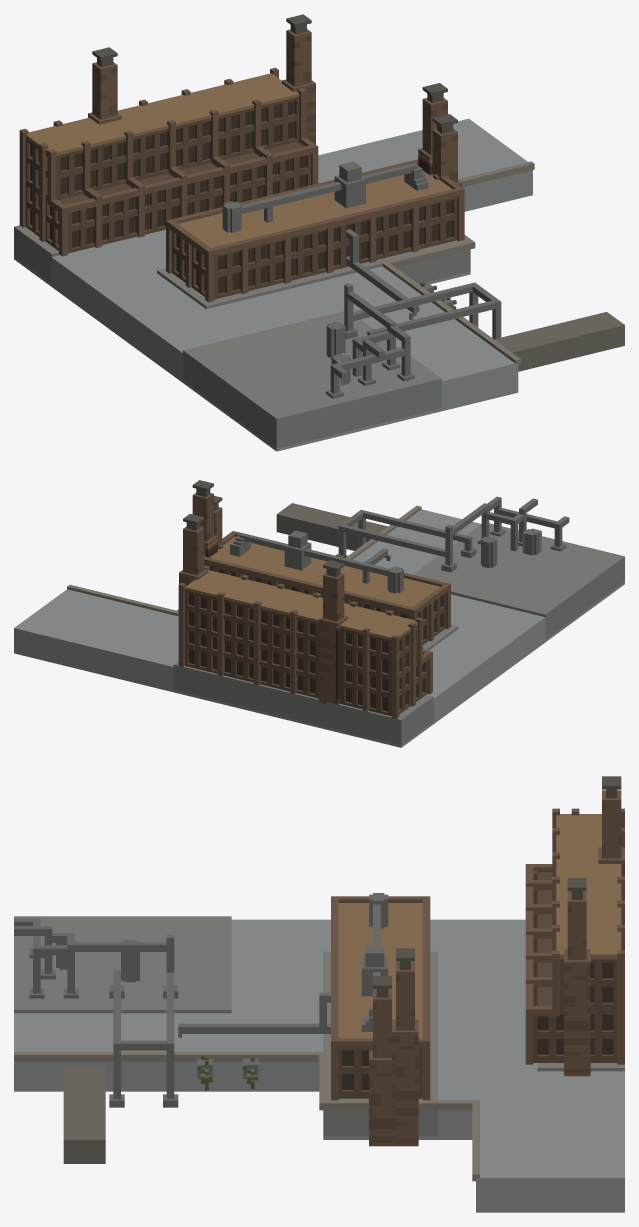
The model's file is Factory.fbx.
3 views of the same model, one above another, from view 1: azimuth 30°, elevation 25°; view 2: azimuth 150°, elevation 25°; view 3: azimuth 270°, elevation 25° (orthographic). The views are drawn at different scales.
Visible parts, largest first — view 1: Factory; view 2: Factory; view 3: Factory.
Part boxes in pixels (x1,y1,x2,y2): Factory: [14, 14, 624, 451]; Factory: [14, 480, 624, 747]; Factory: [14, 776, 624, 1212].
Size of the model in its own units: 1600 by 640 by 1600.
